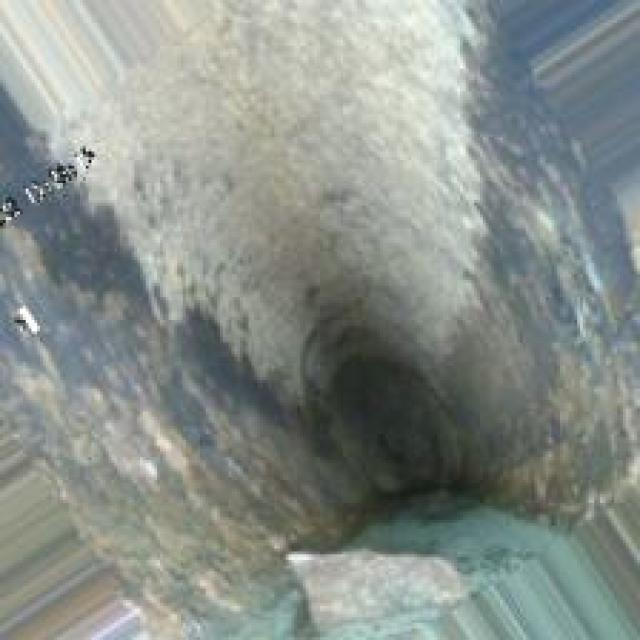stone: (272, 537, 468, 617)
